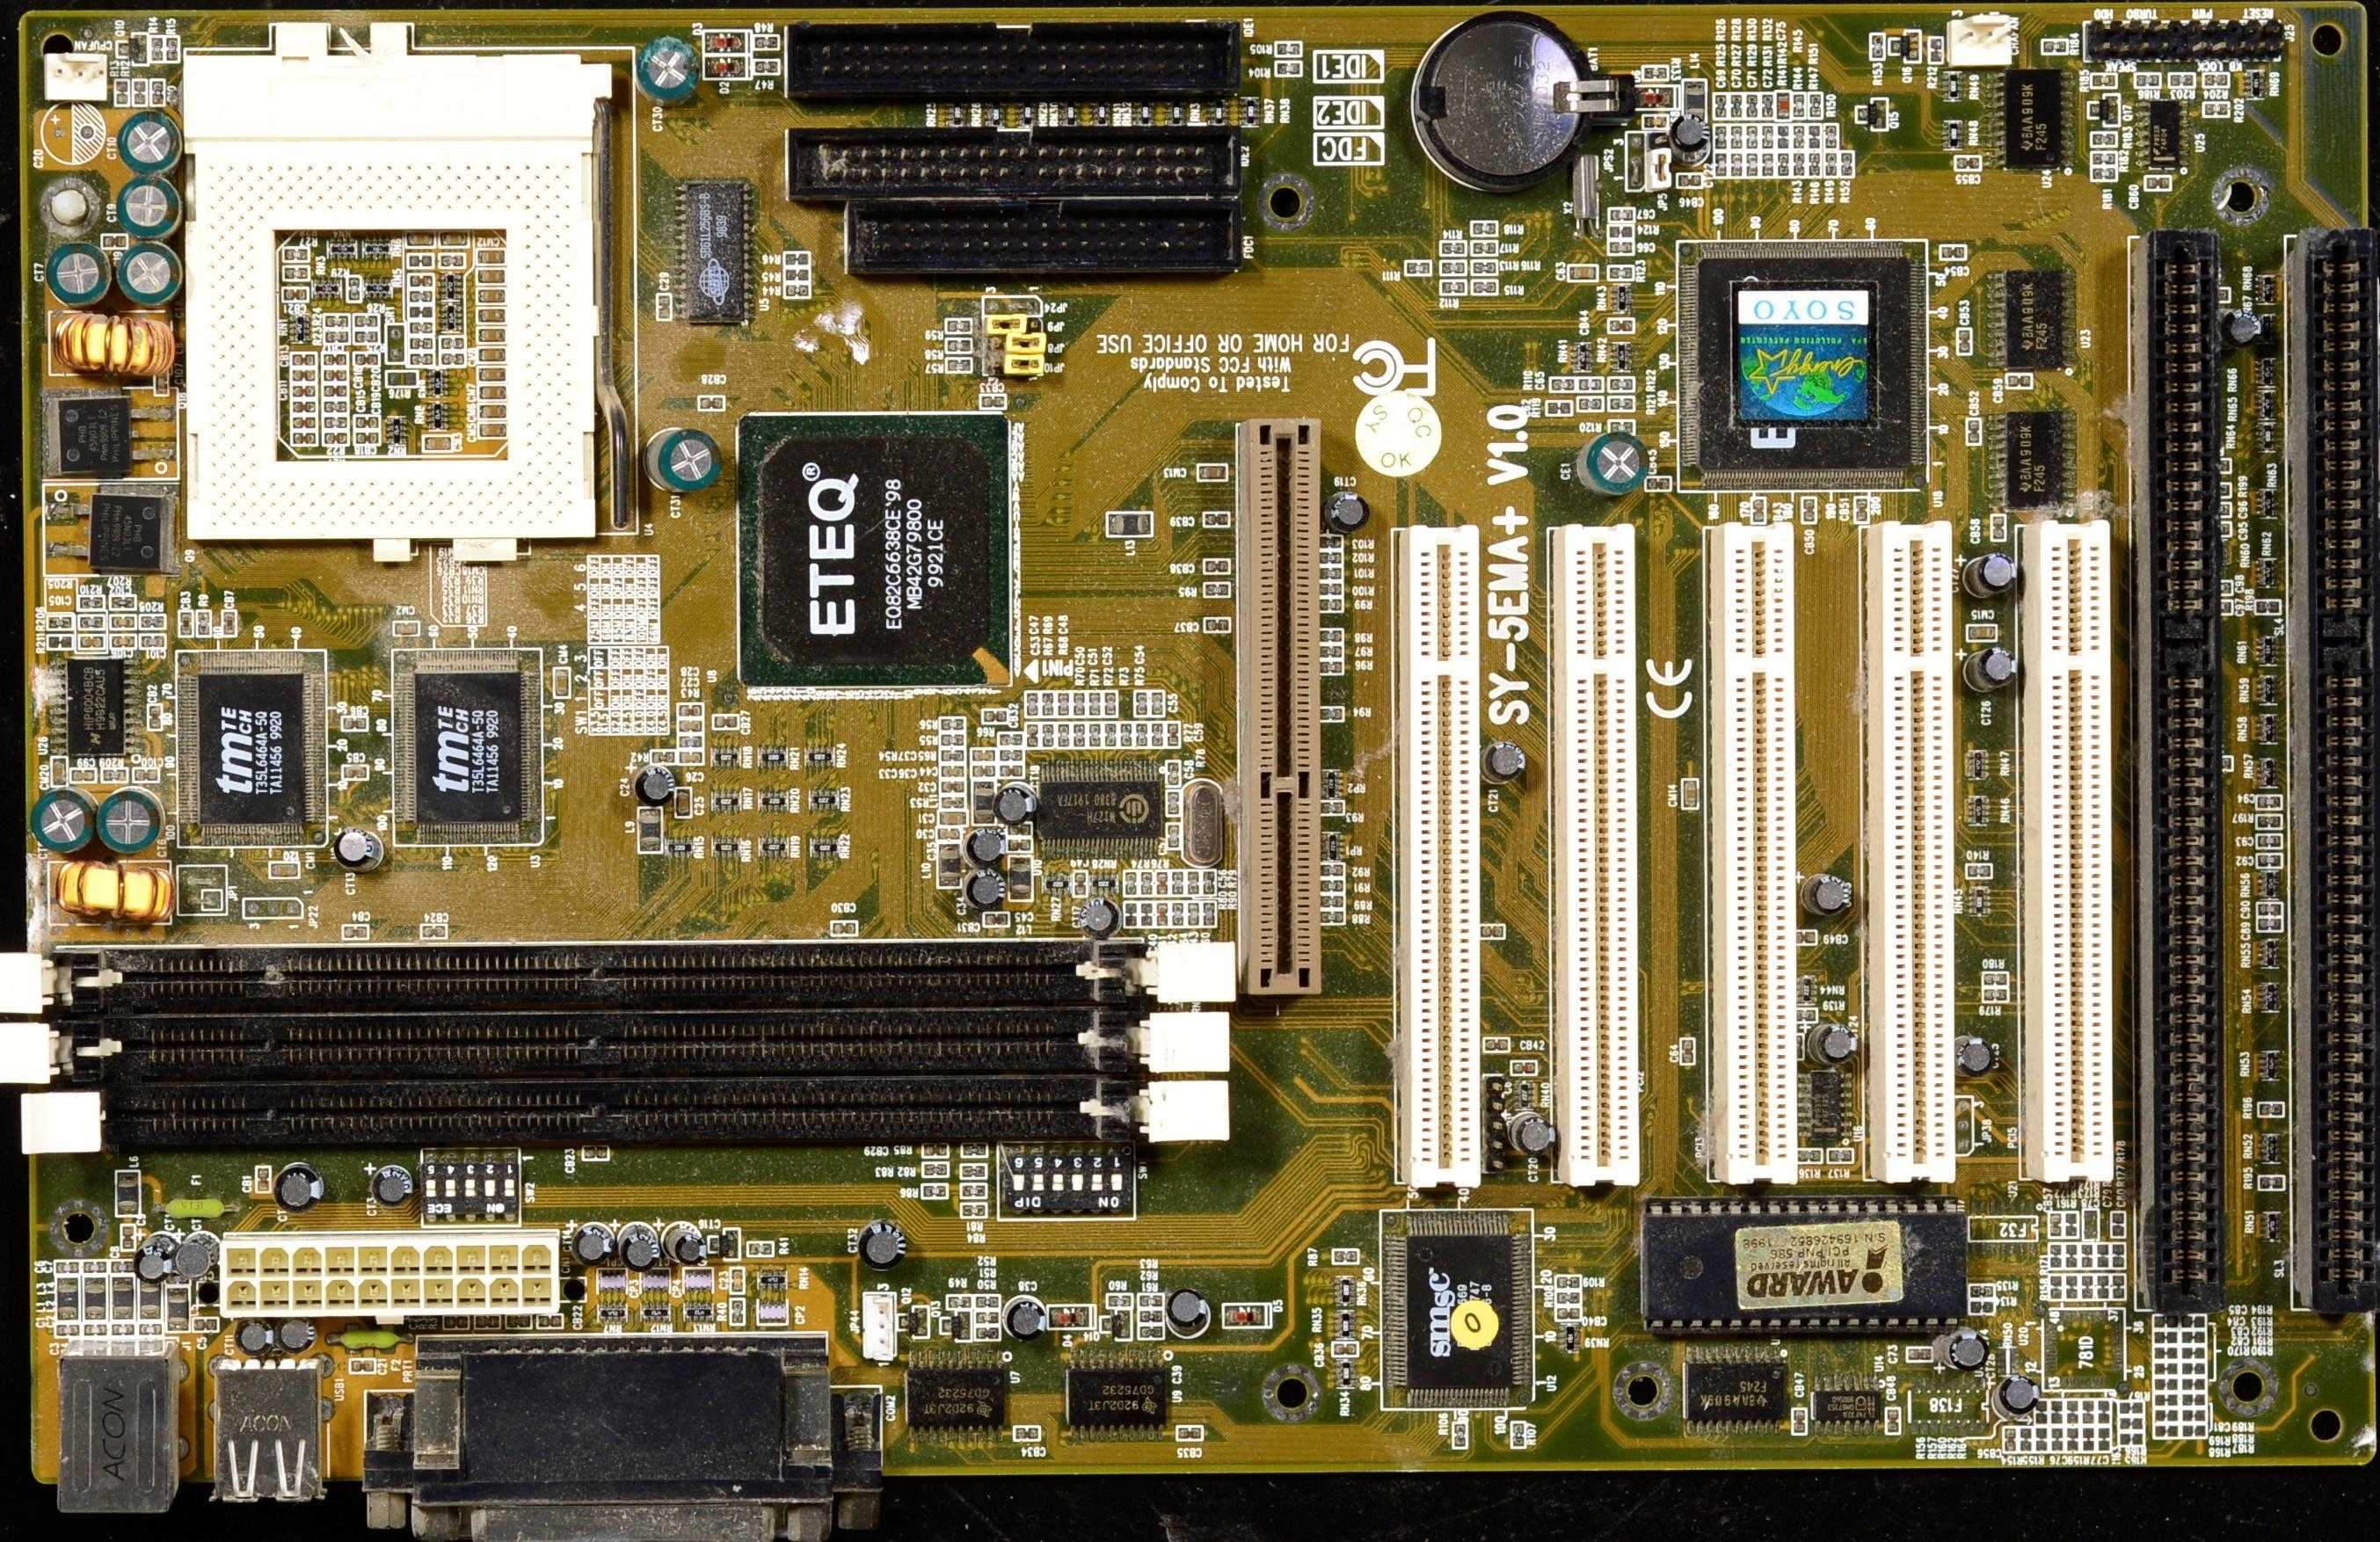Capacitor: (658, 292, 676, 322), (1197, 464, 1226, 483), (347, 1357, 375, 1375), (1728, 151, 1744, 178), (138, 632, 167, 649), (109, 1261, 138, 1277), (676, 788, 692, 818), (1645, 476, 1671, 492), (922, 1145, 950, 1160), (120, 1225, 135, 1252), (1714, 149, 1730, 178), (1965, 418, 1982, 447), (1967, 627, 1998, 640), (51, 755, 64, 785), (995, 764, 1024, 778), (1991, 516, 2006, 542), (1760, 151, 1775, 180), (832, 921, 856, 936), (1908, 1347, 1933, 1362), (2153, 1362, 2179, 1377), (1610, 377, 1635, 391), (1577, 377, 1604, 392), (699, 396, 724, 411), (1205, 512, 1229, 527), (1205, 557, 1229, 573), (111, 633, 136, 648), (1682, 780, 1699, 807), (939, 767, 971, 779), (582, 1146, 611, 1160), (1568, 266, 1597, 280), (677, 750, 705, 763), (972, 764, 999, 777), (1677, 172, 1702, 187), (980, 394, 1005, 410), (1166, 791, 1181, 816), (422, 925, 448, 939), (341, 926, 368, 940), (1514, 1058, 1536, 1076), (257, 1165, 271, 1191), (54, 1261, 80, 1275), (2153, 1315, 2180, 1328), (2153, 1346, 2180, 1360), (2155, 1393, 2180, 1407), (1176, 1425, 1202, 1440), (2146, 177, 2172, 191), (1957, 330, 1970, 356), (112, 615, 137, 629), (78, 636, 105, 649), (148, 704, 162, 731), (342, 765, 368, 779), (1167, 762, 1181, 787), (72, 767, 95, 782), (2258, 795, 2282, 810), (1681, 1038, 1695, 1064), (2154, 1330, 2179, 1344), (1014, 1426, 1037, 1439), (1955, 156, 1979, 170), (1746, 153, 1761, 178), (1609, 207, 1634, 222), (1609, 319, 1634, 333), (678, 705, 703, 718), (135, 768, 159, 782), (940, 812, 967, 824), (2258, 855, 2283, 869), (2007, 375, 2028, 389), (984, 913, 1009, 927), (1556, 1307, 1583, 1320), (2003, 1428, 2016, 1454), (1205, 619, 1232, 632), (677, 719, 702, 732), (1796, 931, 1818, 945), (83, 1258, 106, 1272), (714, 715, 737, 728), (941, 780, 963, 795), (937, 827, 959, 840), (1166, 824, 1179, 847), (732, 1269, 744, 1292), (1610, 242, 1634, 253), (1152, 691, 1163, 715), (343, 717, 368, 730), (972, 747, 993, 760), (2258, 836, 2282, 848), (2256, 903, 2283, 913), (2258, 919, 2282, 930), (1168, 723, 1178, 746)
Connector: (368, 1338, 884, 1542), (2128, 227, 2224, 1306), (2287, 217, 2380, 1310), (0, 1016, 1227, 1085), (20, 1085, 1212, 1154), (11, 942, 1237, 1005), (1699, 531, 1799, 1194), (2019, 512, 2114, 1184), (1550, 528, 1647, 1196), (1868, 527, 1960, 1183), (1397, 531, 1484, 1194), (1238, 414, 1327, 998), (785, 123, 1244, 200), (776, 26, 1247, 94), (845, 200, 1235, 277), (215, 1230, 562, 1306), (62, 1342, 180, 1515), (217, 1359, 331, 1503), (2081, 21, 2283, 55)
IC: (738, 415, 1016, 690), (1677, 240, 1926, 491), (1641, 1197, 1969, 1326), (1381, 1209, 1535, 1409), (173, 649, 325, 847), (394, 651, 543, 845), (1031, 761, 1163, 856), (673, 178, 754, 326), (904, 1349, 1009, 1446), (47, 655, 143, 760), (1066, 1347, 1170, 1439), (1990, 408, 2079, 516), (1683, 1349, 1787, 1435), (1990, 271, 2078, 370), (1988, 69, 2075, 166), (1811, 1376, 1879, 1436), (1797, 1069, 1854, 1139), (2136, 100, 2190, 168)
Resistor: (1795, 1146, 1823, 1165), (1828, 1146, 1855, 1166), (1440, 240, 1467, 258), (963, 1182, 987, 1200), (2255, 600, 2285, 615), (2256, 1102, 2283, 1118), (962, 1162, 986, 1180), (2180, 1313, 2206, 1330), (2049, 1426, 2065, 1451), (2090, 73, 2116, 90), (115, 79, 129, 108), (2181, 1407, 2208, 1422), (1607, 224, 1634, 239), (139, 614, 166, 629), (45, 614, 76, 629), (1041, 690, 1056, 718), (2255, 814, 2282, 830), (982, 709, 1007, 726), (132, 79, 147, 106), (1729, 93, 1743, 120), (2203, 103, 2230, 118), (1138, 1326, 1163, 1341), (2180, 1346, 2206, 1361), (1745, 124, 1760, 149), (1406, 260, 1431, 275), (1439, 280, 1467, 295), (196, 611, 212, 636), (1071, 692, 1087, 718), (1332, 1249, 1360, 1263), (2082, 1426, 2095, 1453), (2066, 1426, 2080, 1453), (1825, 151, 1838, 178), (752, 35, 778, 47), (1056, 691, 1071, 718), (1964, 863, 1992, 878), (2259, 1175, 2283, 1189), (922, 1182, 948, 1199), (747, 1240, 772, 1255), (1730, 125, 1744, 149), (1761, 125, 1776, 149), (1510, 1422, 1525, 1446), (1838, 151, 1853, 176), (1023, 692, 1039, 716), (1760, 92, 1775, 118), (1744, 91, 1759, 119), (962, 1204, 986, 1218), (1107, 1293, 1132, 1307), (731, 1298, 744, 1325), (2180, 1330, 2206, 1344), (1809, 124, 1823, 149), (1823, 123, 1838, 149), (1714, 125, 1729, 150), (2091, 134, 2116, 147), (2181, 1393, 2207, 1407), (2082, 1400, 2095, 1425), (2035, 1400, 2049, 1426), (2181, 1409, 2207, 1422), (2154, 1408, 2180, 1422), (2119, 1417, 2143, 1430), (1452, 1422, 1467, 1448), (1776, 151, 1790, 177), (1471, 260, 1496, 274), (1608, 265, 1634, 279), (784, 269, 811, 282), (947, 318, 972, 331), (1551, 378, 1576, 392), (2042, 40, 2067, 54), (150, 36, 164, 62), (1317, 581, 1343, 595), (1205, 582, 1229, 596), (77, 596, 104, 610), (47, 636, 73, 648), (753, 59, 779, 73), (1275, 63, 1301, 76), (1103, 691, 1117, 716), (1103, 723, 1117, 750), (2171, 74, 2196, 88), (2136, 75, 2161, 89), (1981, 971, 2010, 984), (1810, 91, 1823, 120), (946, 360, 974, 371), (2050, 1401, 2065, 1423), (1321, 629, 1343, 643), (1088, 691, 1103, 713), (151, 80, 164, 105), (1982, 988, 2009, 1001), (925, 1163, 950, 1178), (1139, 1293, 1163, 1307), (972, 1295, 1000, 1308), (1794, 125, 1807, 149), (2154, 1377, 2180, 1392), (2182, 1393, 2206, 1407), (2066, 1400, 2079, 1424), (2181, 1424, 2209, 1437), (1793, 153, 1806, 177), (1474, 222, 1497, 236), (1474, 281, 1497, 295), (783, 284, 812, 297), (1578, 396, 1604, 410), (1610, 397, 1634, 411), (1609, 419, 1634, 434), (1930, 38, 1944, 62), (110, 596, 137, 609), (1319, 660, 1343, 675), (1150, 722, 1164, 746), (1134, 723, 1149, 748), (997, 733, 1025, 746), (103, 768, 127, 782), (1555, 1277, 1582, 1289), (1968, 1301, 1993, 1313), (2181, 1362, 2206, 1374), (2181, 1378, 2207, 1392), (2118, 1402, 2143, 1414), (2182, 1425, 2208, 1438), (2153, 1425, 2179, 1438), (2021, 1428, 2033, 1453), (2091, 153, 2117, 164), (1871, 33, 1883, 60), (1277, 43, 1302, 56), (1316, 598, 1343, 611), (78, 616, 105, 629), (940, 733, 965, 746), (940, 749, 965, 762), (999, 749, 1025, 762), (2202, 74, 2229, 86), (949, 1294, 971, 1308), (1318, 645, 1342, 659), (1319, 708, 1342, 721), (940, 718, 964, 731), (1793, 94, 1804, 119), (1968, 1286, 1991, 1298), (1556, 1291, 1581, 1305), (2098, 1401, 2110, 1425), (2034, 1428, 2048, 1452), (784, 253, 809, 265), (167, 37, 179, 62), (1318, 535, 1343, 549), (1318, 567, 1343, 579), (1057, 724, 1068, 748), (679, 736, 702, 747), (652, 752, 676, 764), (1714, 95, 1728, 116), (960, 1146, 987, 1156), (1646, 67, 1667, 81), (1473, 242, 1496, 254), (1441, 262, 1465, 274), (947, 339, 970, 352), (1136, 692, 1148, 715), (940, 796, 964, 809), (975, 1327, 1001, 1338), (2119, 1433, 2144, 1444), (1319, 553, 1345, 564), (1043, 724, 1052, 749), (976, 1313, 1001, 1323), (2099, 1427, 2110, 1452), (2092, 168, 2114, 180), (1120, 723, 1132, 747), (1073, 723, 1083, 747), (1141, 1311, 1162, 1321), (1809, 154, 1820, 175), (1089, 724, 1100, 745)
Transistor: (42, 389, 178, 480), (42, 484, 182, 571), (113, 33, 148, 67), (2087, 94, 2123, 127), (1889, 30, 1920, 65), (1857, 98, 1889, 129), (940, 1310, 971, 1344), (899, 1303, 927, 1339), (710, 1227, 737, 1262), (1102, 1309, 1132, 1340)
